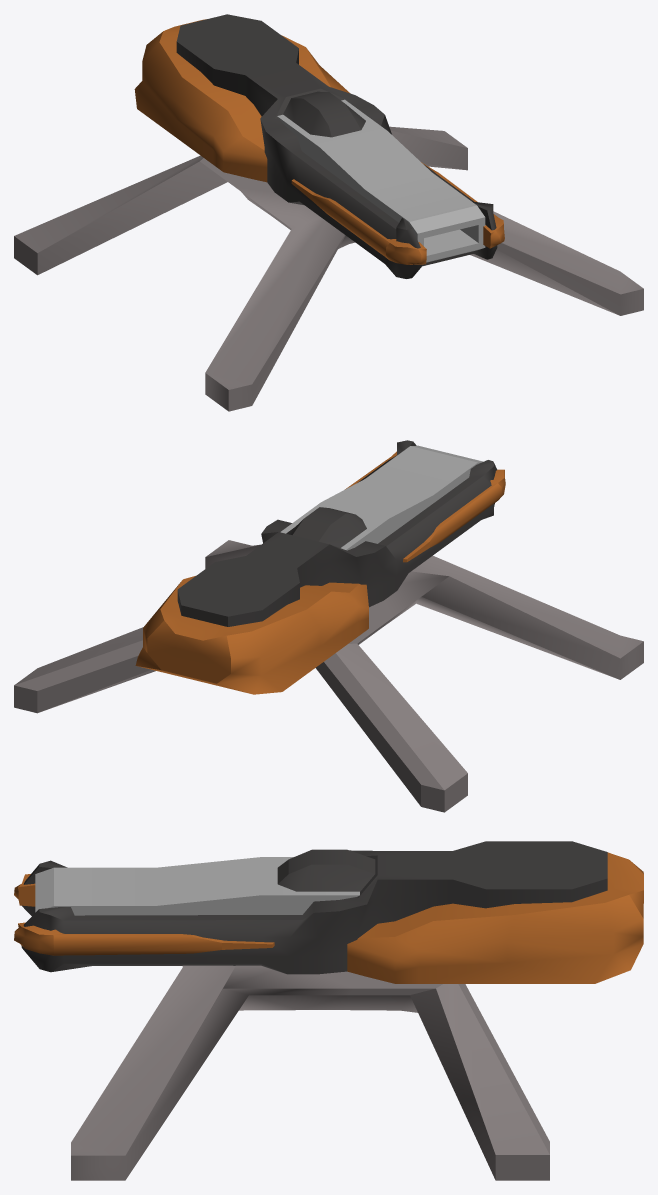
File: Grenade Launcher.fbx
3 views of the same model, one above another, from view 1: azimuth 30°, elevation 25°; view 2: azimuth 150°, elevation 25°; view 3: azimuth 270°, elevation 25° (orthographic). The views are drawn at different scales.
Parts seen in each view (by area): view 1: polySurface13, pCube10, pCube11, pCube13, pCube12; view 2: polySurface13, pCube10, pCube13, pCube11, pCube12; view 3: polySurface13, pCube10, pCube13, pCube11, pCube12.
Part boxes in pixels (x1=…): polySurface13: x1=14, y1=126, x2=643, y2=411; pCube10: x1=176, y1=14, x2=497, y2=278; pCube11: x1=277, y1=99, x2=485, y2=262; pCube13: x1=134, y1=19, x2=350, y2=182; pCube12: x1=291, y1=162, x2=504, y2=264; polySurface13: x1=14, y1=540, x2=643, y2=812; pCube10: x1=177, y1=440, x2=497, y2=626; pCube13: x1=135, y1=576, x2=368, y2=694; pCube11: x1=280, y1=445, x2=482, y2=550; pCube12: x1=345, y1=451, x2=505, y2=562; polySurface13: x1=71, y1=965, x2=549, y2=1180; pCube10: x1=21, y1=841, x2=607, y2=974; pCube13: x1=347, y1=852, x2=643, y2=983; pCube11: x1=35, y1=857, x2=359, y2=915; pCube12: x1=14, y1=874, x2=274, y2=955.
Bounding box in the file's own units: 6.35 × 2.51 × 6.96.
